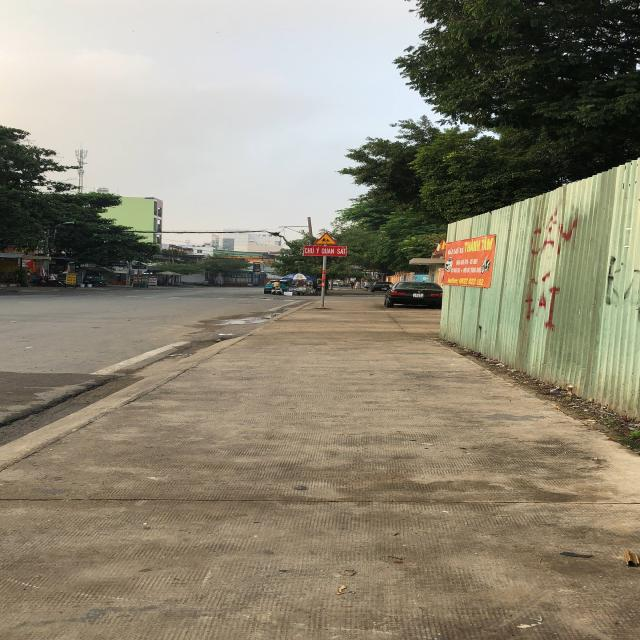Bien bao tre em: (312, 231, 338, 245)
